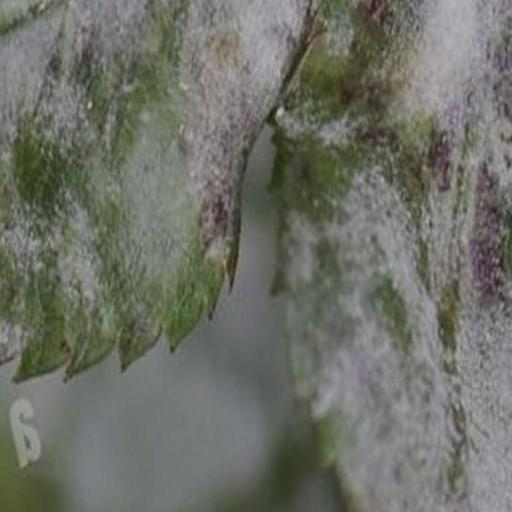powdery_mildew: (272, 0, 512, 512), (0, 0, 310, 381)
